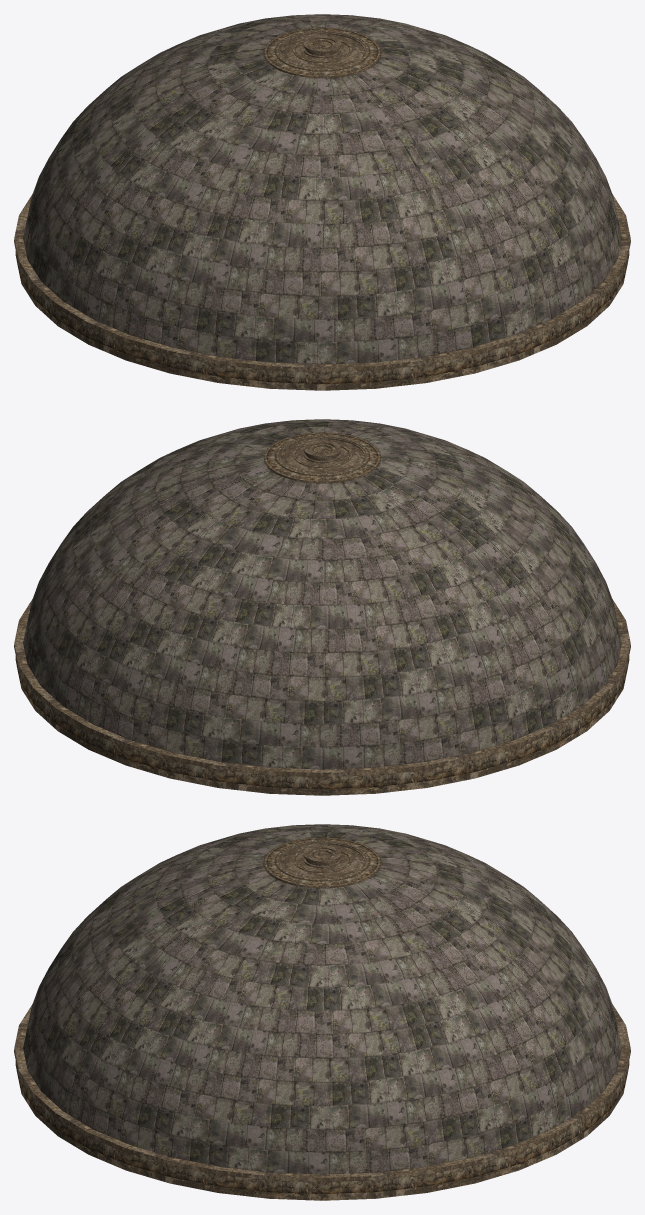
Rendered from materials_5_roof_1.fbx.
3 renders of one model, top to bottom at view 1: azimuth 30°, elevation 25°; view 2: azimuth 150°, elevation 25°; view 3: azimuth 270°, elevation 25°, orthographic.
Parts seen in each view (by area): view 1: materials_5_roof_1; view 2: materials_5_roof_1; view 3: materials_5_roof_1.
Part boxes in pixels (x1,y1,x2,y2): materials_5_roof_1: (14,14,630,390); materials_5_roof_1: (14,419,630,795); materials_5_roof_1: (14,824,630,1200).
Size of the model in its own units: 646 by 252 by 646.
